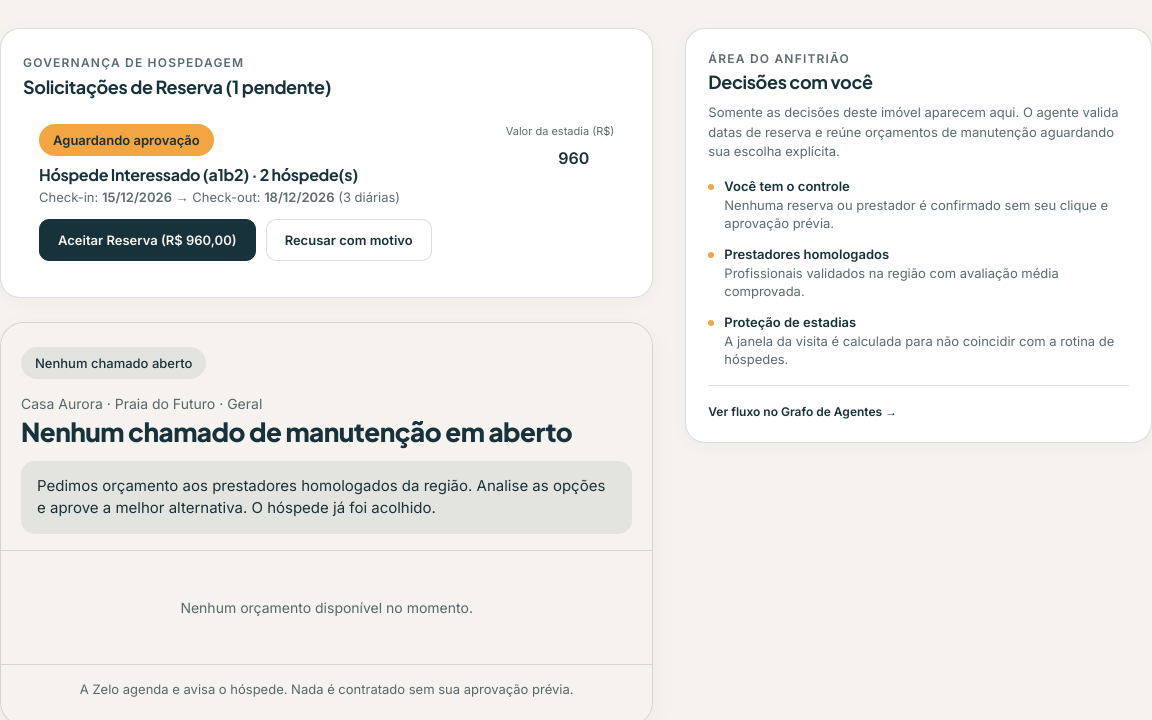
permite ao anfitrião aceitar ou recusar solicitações de hospedagem com notificação no chat
expect the heading "Hóspede Interessado (a1b2) · 2 hóspede(s)" is shown: met, box [39,164,400,185]
Click the button "Aceitar Reserva (R$ 960,00)" at x=147, y=240, box [39,219,256,261]
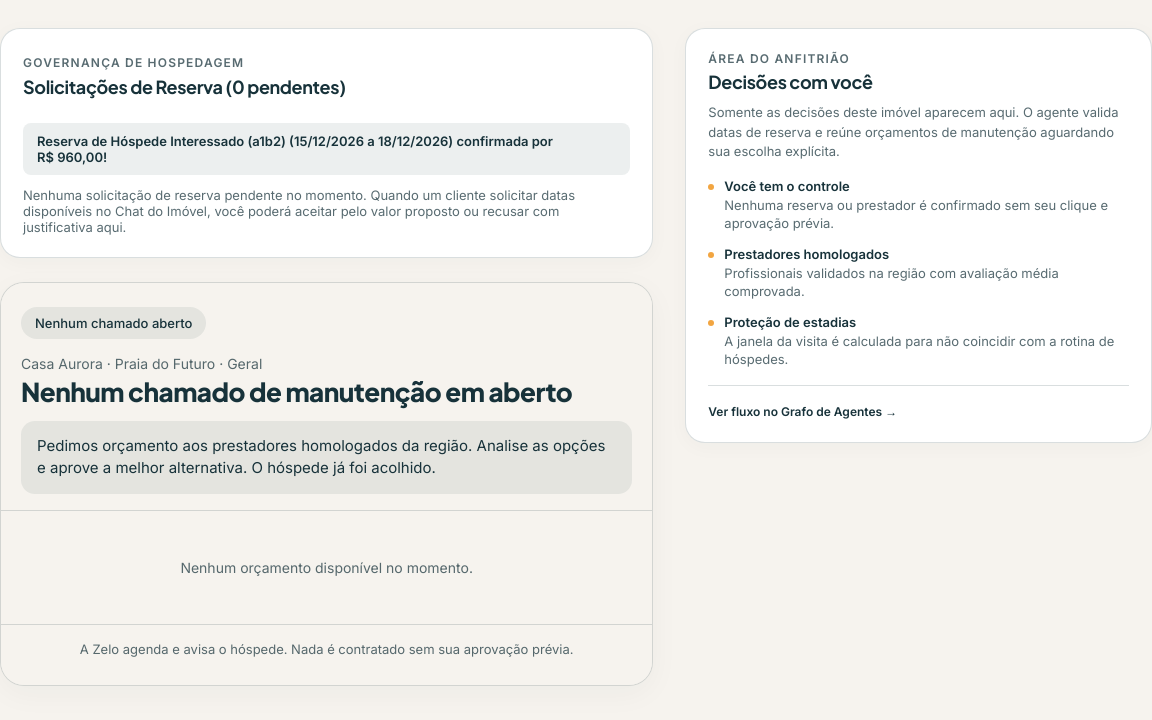
expect the message shows "confirmada": met, box [37,133,553,165]
